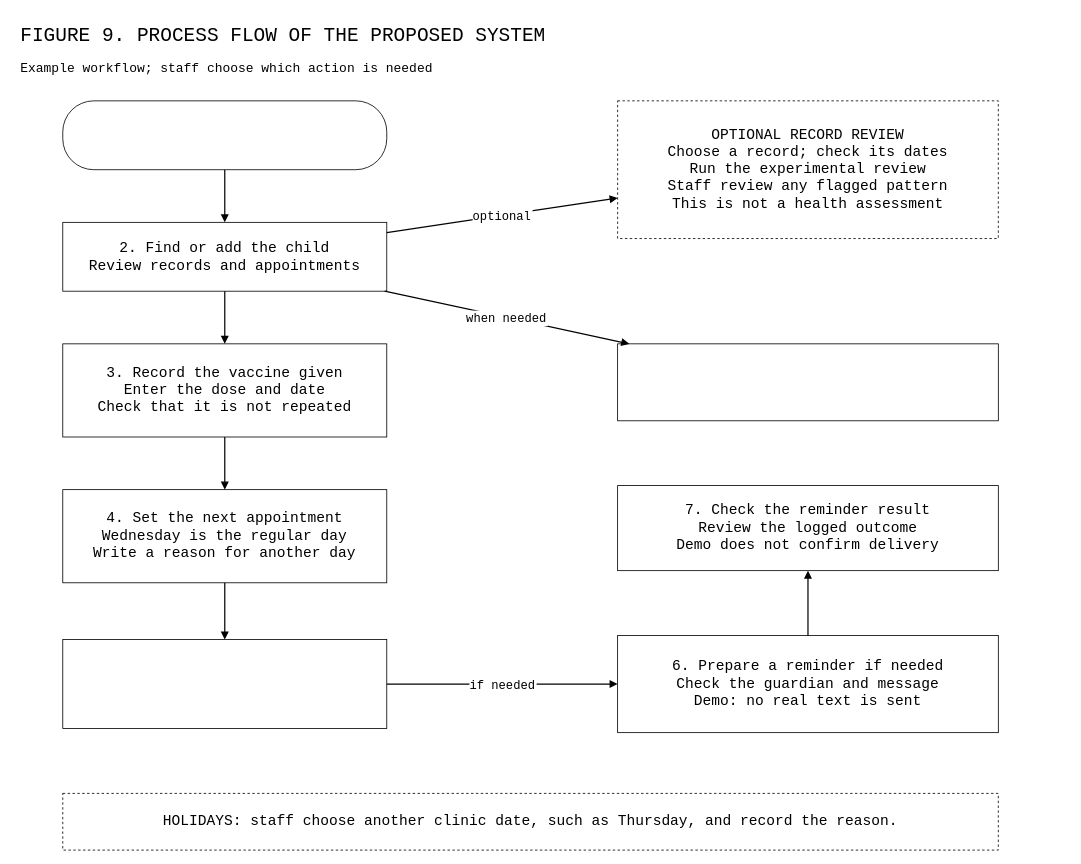
Some shapes in this 1081 by 864 pixel diagram are drawn without their labels. Each missing label, with the centre of its shape:
1. Sign in Use an approved staff account: the point at 224,135
5. Review appointments Check due or past dates Record follow-up actions: the point at 224,684
View reports or print Available without sending a text: the point at 807,382
